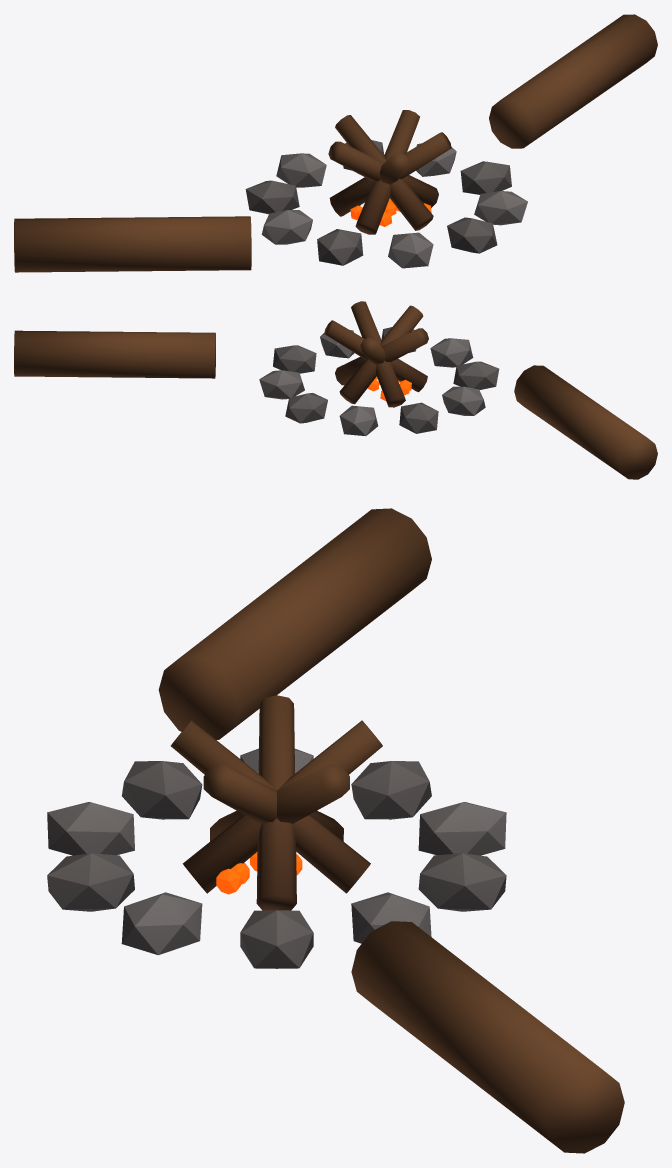
The model's file is campfire.glb.
3 renders of one model, top to bottom at view 1: azimuth 30°, elevation 25°; view 2: azimuth 150°, elevation 25°; view 3: azimuth 270°, elevation 25°, orthographic. The views are drawn at different scales.
Parts seen in each view (by area): view 1: campfire, campfire_glow; view 2: campfire, campfire_glow; view 3: campfire, campfire_glow.
Boxes of the visible parts, x1,y1,x2,y2 form: campfire: (14,14,657,272); campfire_glow: (350,198,431,226); campfire: (14,301,657,479); campfire_glow: (367,376,411,400); campfire: (47,508,624,1153); campfire_glow: (216,852,302,894).
Size of the model in its own units: 4.78 by 0.5867 by 2.01.
